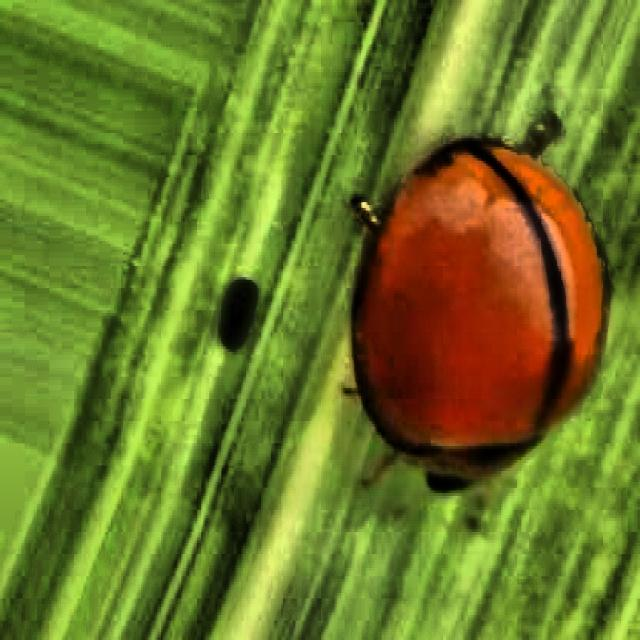Ladybug: (278, 57, 632, 556)
